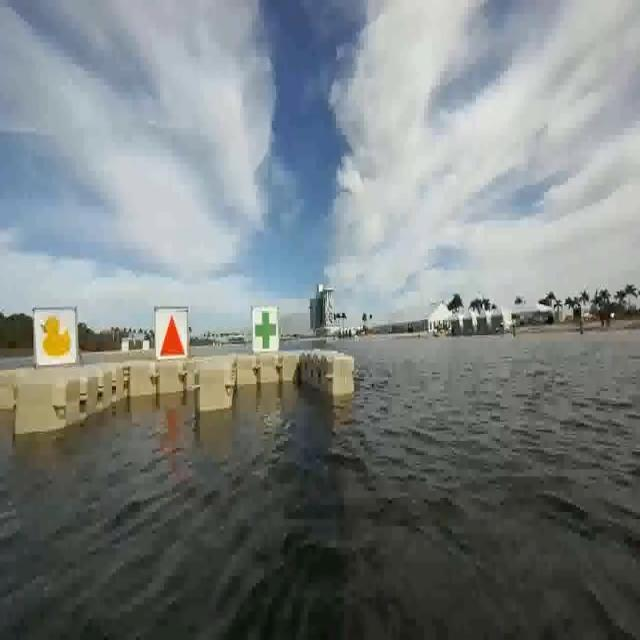blue-buoy: (254, 305, 278, 354)
red-dot: (155, 307, 186, 361)
yellow-duck: (41, 314, 74, 360)
